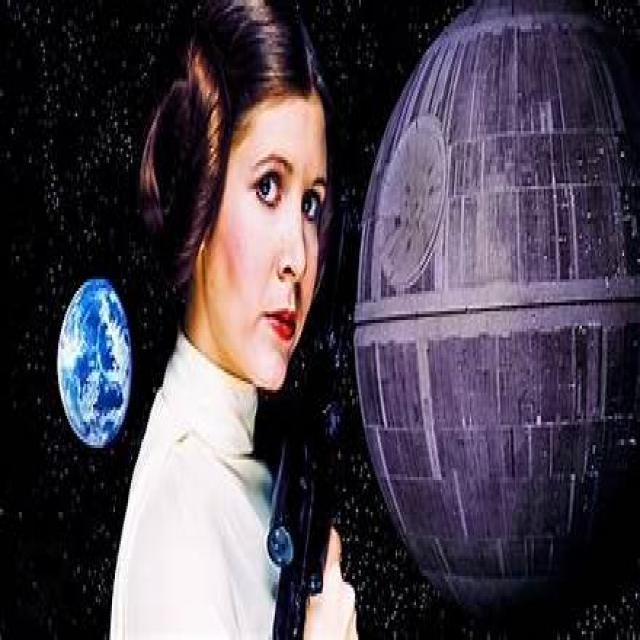deathStar: (357, 0, 638, 611)
